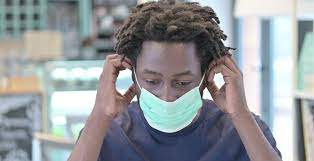FaceMask: (139, 87, 203, 134)
